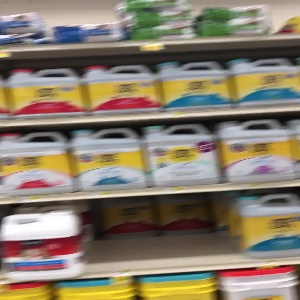void: (88, 199, 237, 265)
